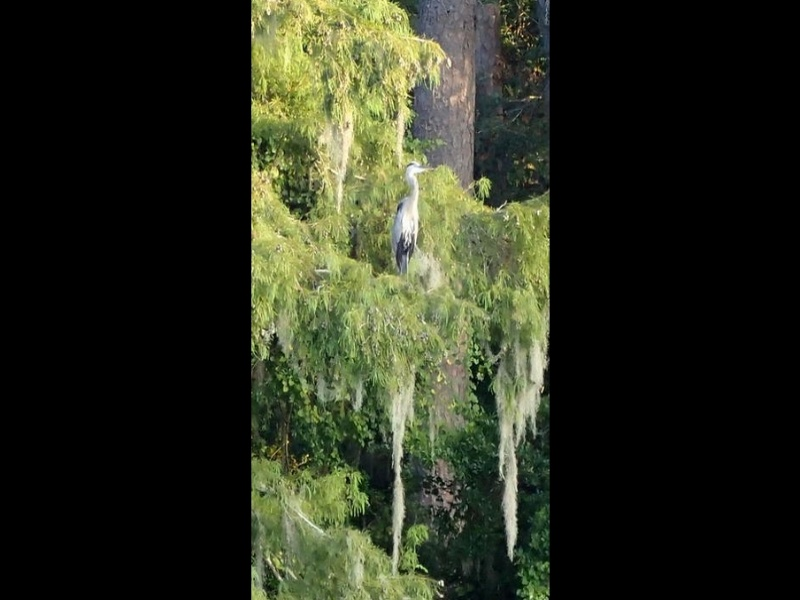heron: (388, 161, 440, 280)
